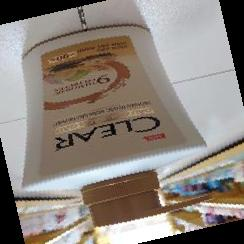clear: (22, 1, 219, 224)
